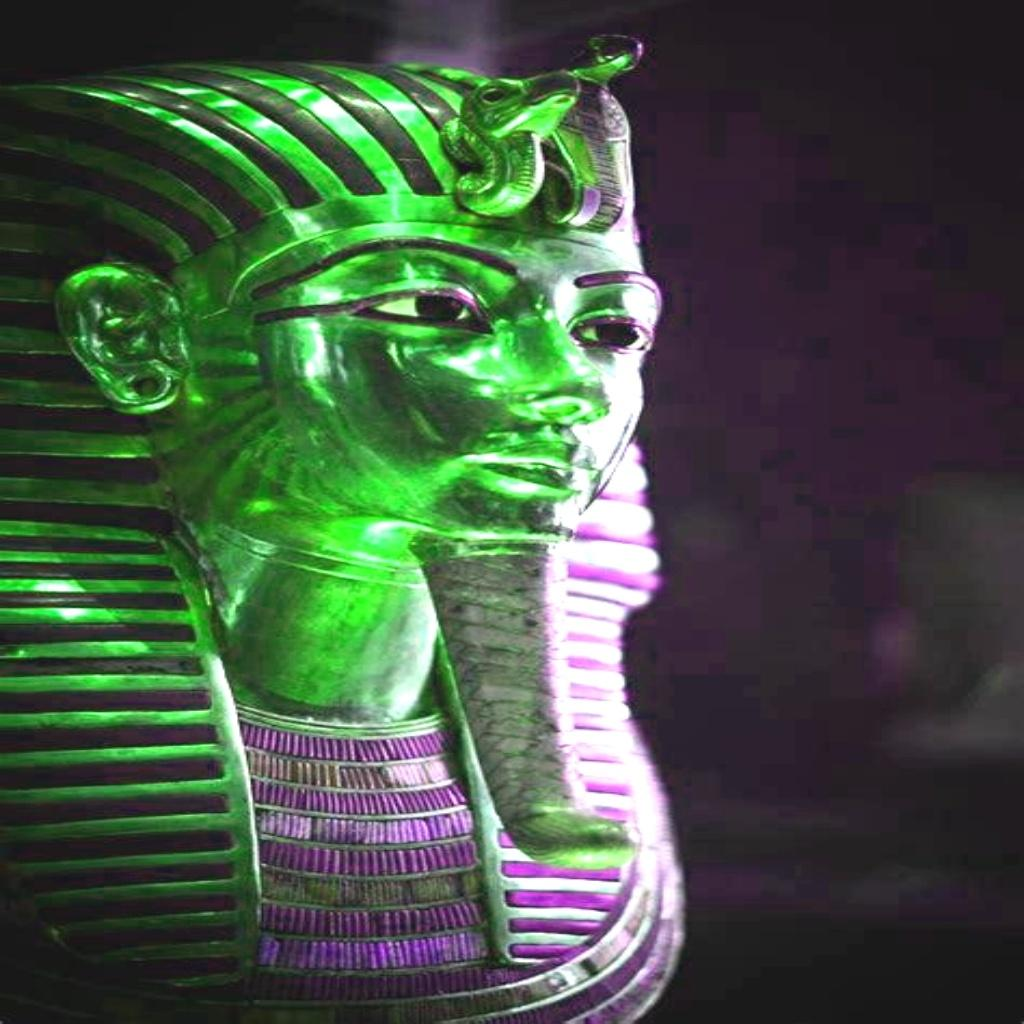Mask of Tutankhamun: (0, 41, 687, 1024)
